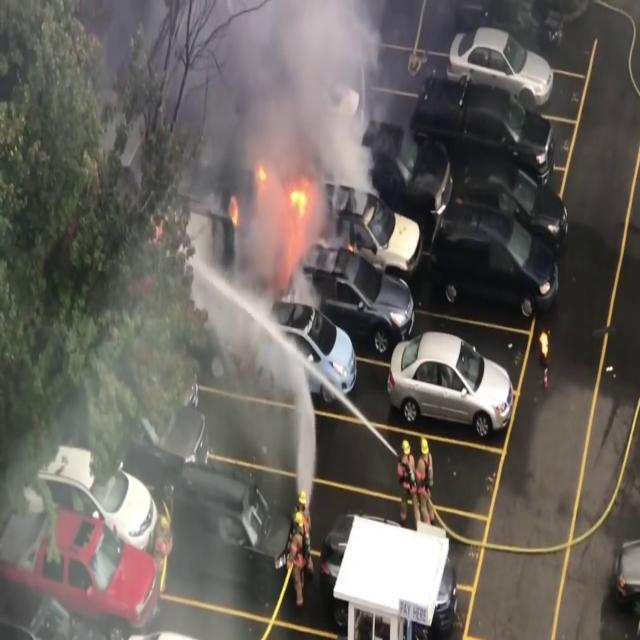Fire: (287, 179, 314, 229)
Smoke: (195, 0, 382, 269)
